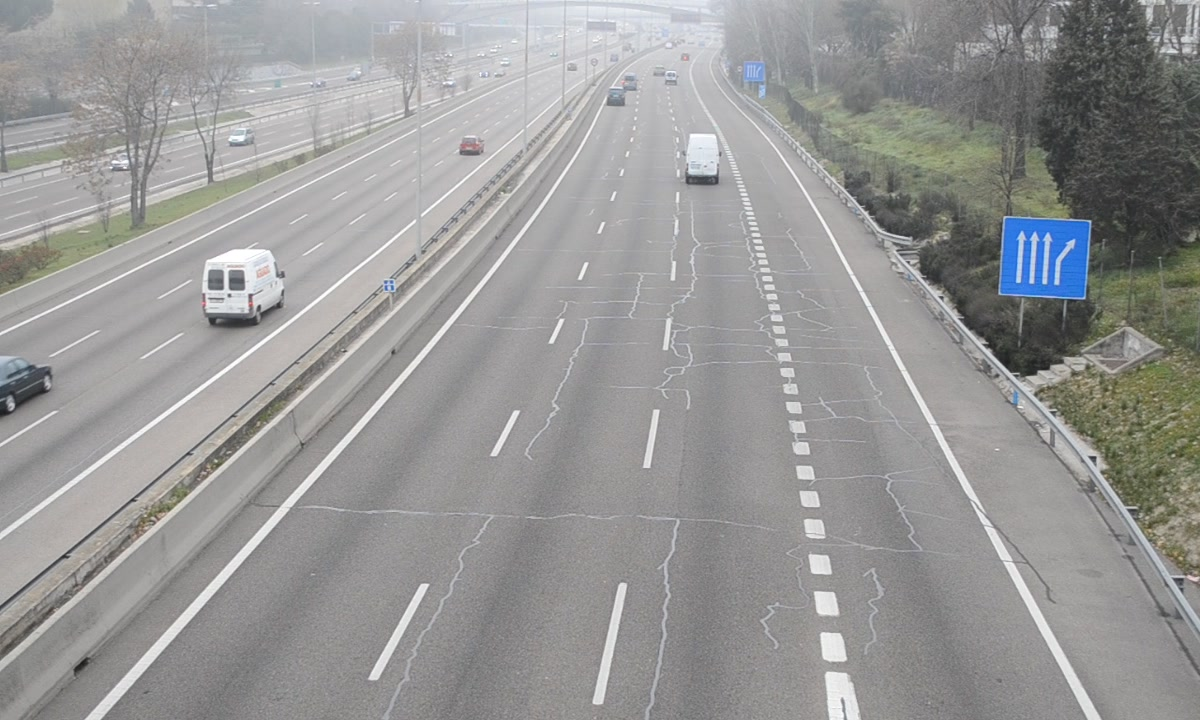van: (684, 132, 722, 187)
